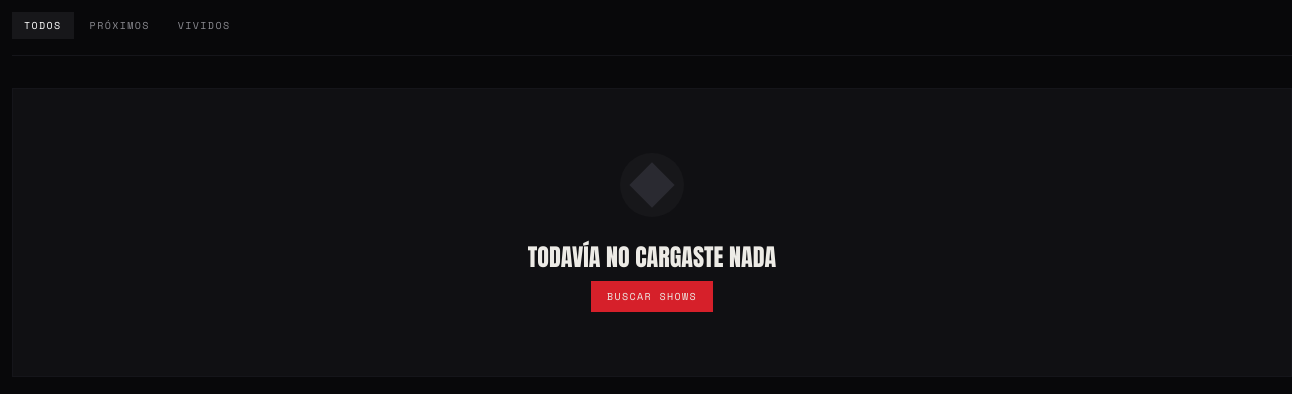
Test: AgendaView › muestra estados vacíos específicos por tab
The width and height of the screenshot is (1292, 394).
Check: the heading "Todavía no cargaste nada" is shown, box [528,241,776,273]
Tab "Próximos" vacía
Click the button "Próximos". click: (120, 26)
box: [78,12,162,39]
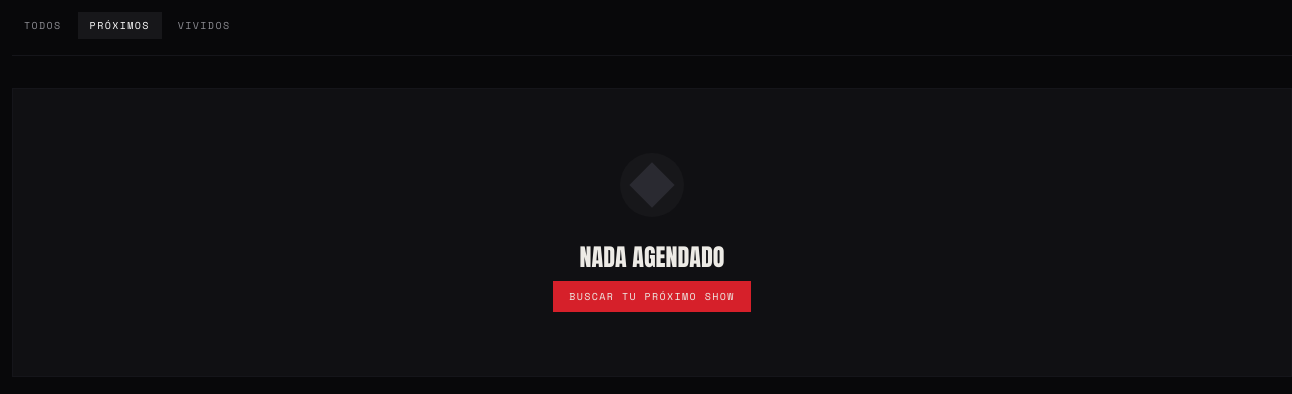
Check: the heading "Nada agendado" is shown, box [580,241,724,273]
Tab "Vividos" vacía
Click the button "Vividos". click: (204, 26)
box: [166,12,242,39]
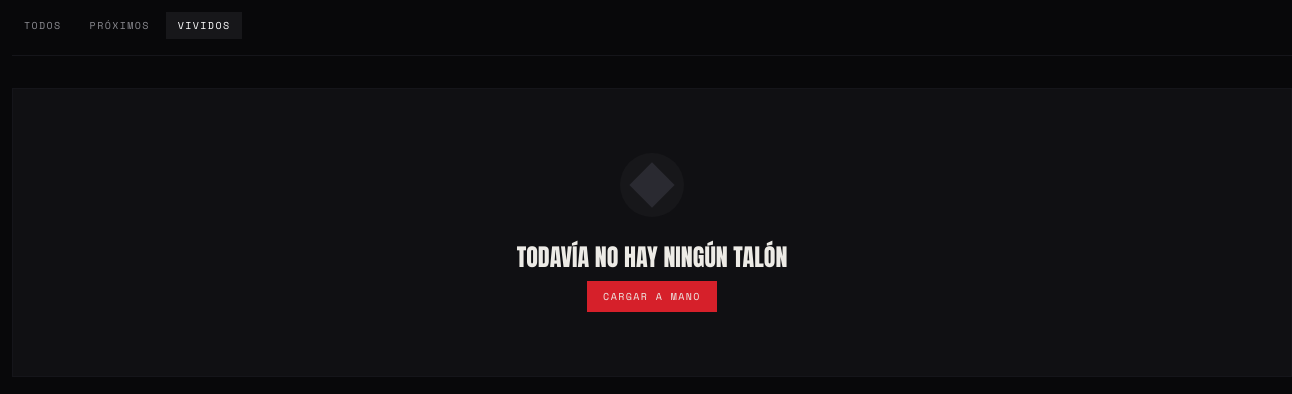
Check: the heading "Todavía no hay ningún talón" is shown, box [517,241,787,273]
